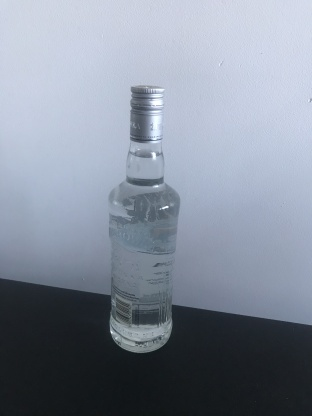nakretka: (128, 83, 165, 143)
